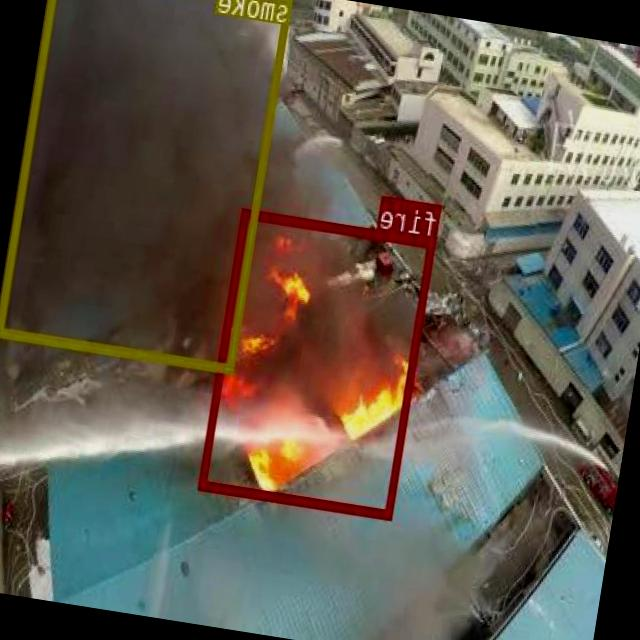fire: (200, 206, 437, 520)
smoke: (0, 0, 295, 373)
